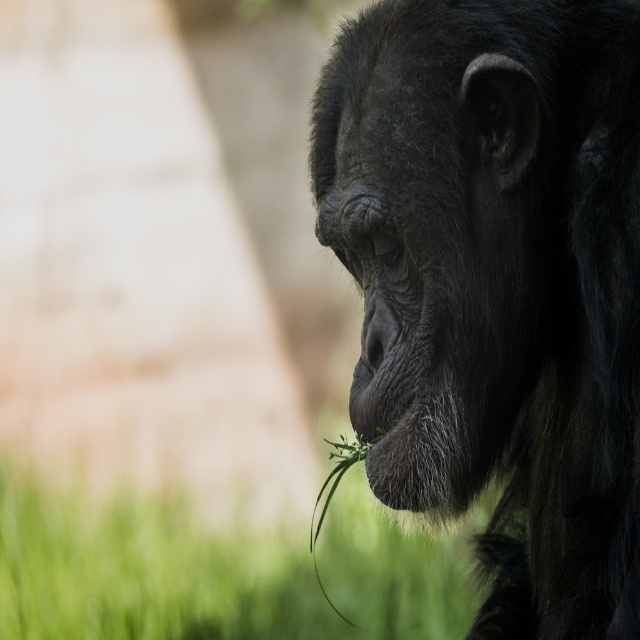Monkey: (308, 0, 640, 639)
